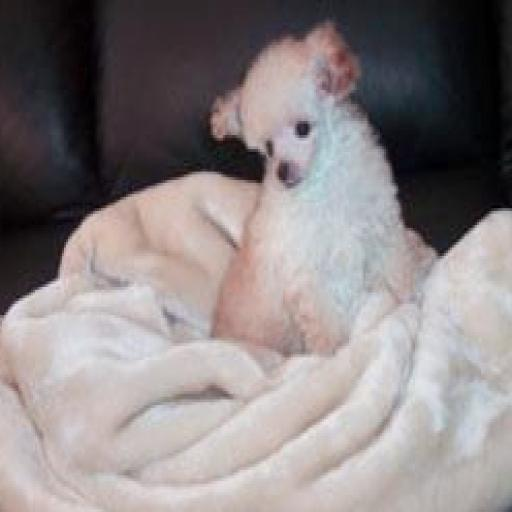dog_face: (212, 22, 358, 197)
